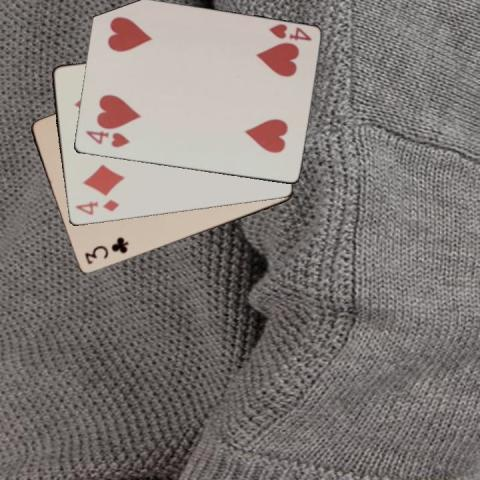3c: (81, 234, 130, 266)
4d: (72, 197, 120, 216)
4h: (266, 21, 314, 43), (82, 128, 130, 149)
